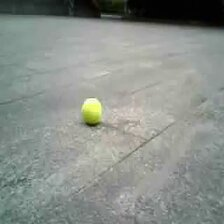tennis: (81, 97, 101, 121)
